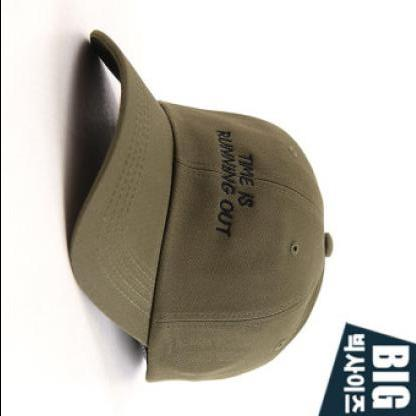cap: (63, 20, 336, 392)
